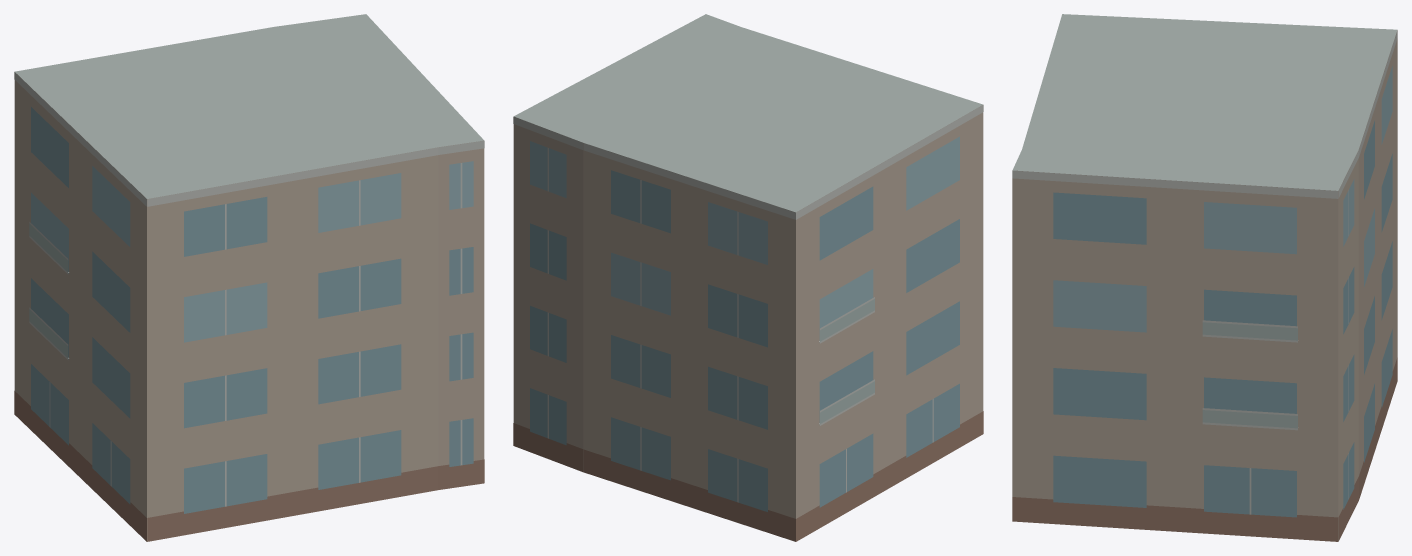
Rendered from survey-upis-32890233.glb.
3 renders of one model, left to right at view 1: azimuth 30°, elevation 25°; view 2: azimuth 150°, elevation 25°; view 3: azimuth 270°, elevation 25°, orthographic. The views are drawn at different scales.
Visible parts, largest first — view 1: survey-upis-32890233.tmp; view 2: survey-upis-32890233.tmp; view 3: survey-upis-32890233.tmp.
Part boxes in pixels (x1,y1,x2,y2): survey-upis-32890233.tmp: [14, 14, 484, 541]; survey-upis-32890233.tmp: [513, 14, 983, 541]; survey-upis-32890233.tmp: [1012, 14, 1397, 541].
Bounding box in the file's own units: 11.58 × 10.7 × 10.65.
